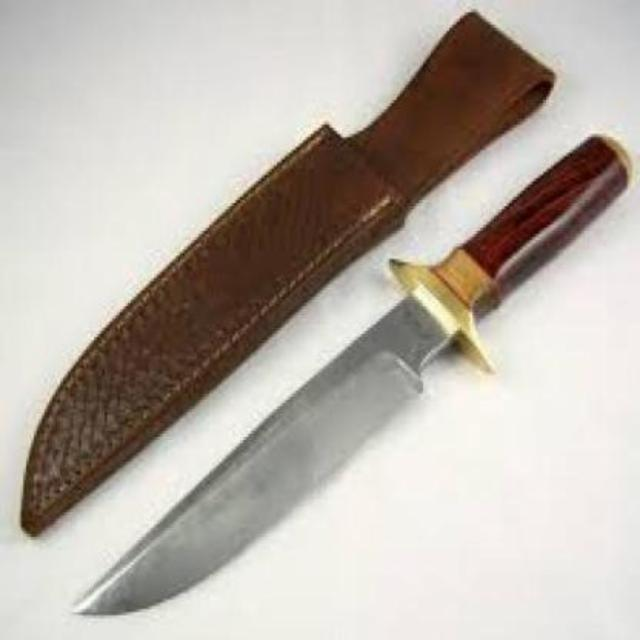Knife: (75, 139, 630, 611)
